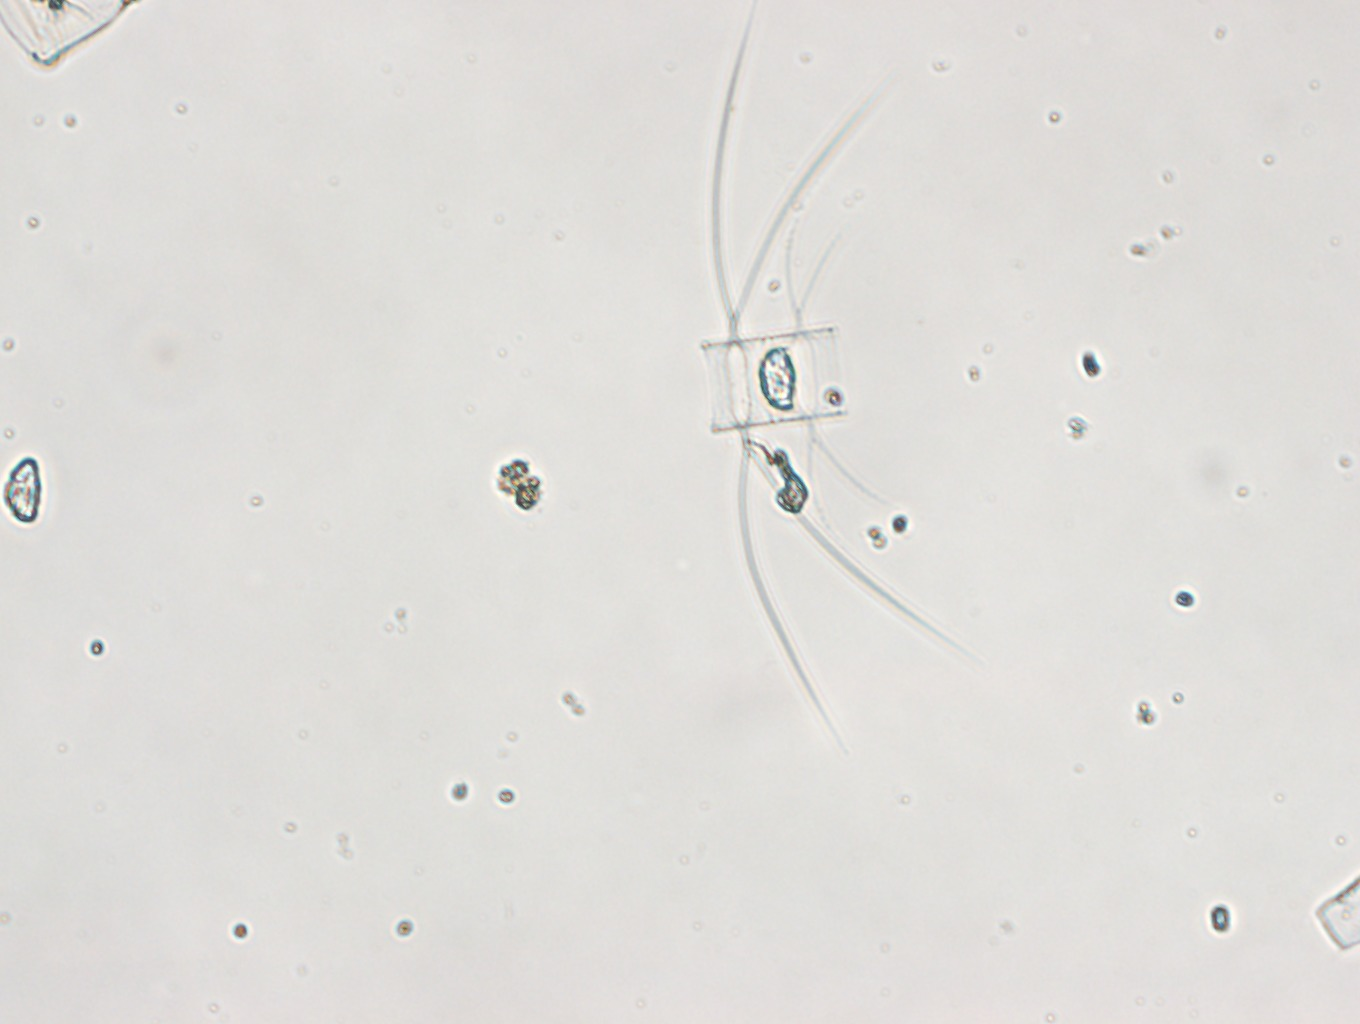chaetoceros: (699, 1, 979, 756)
